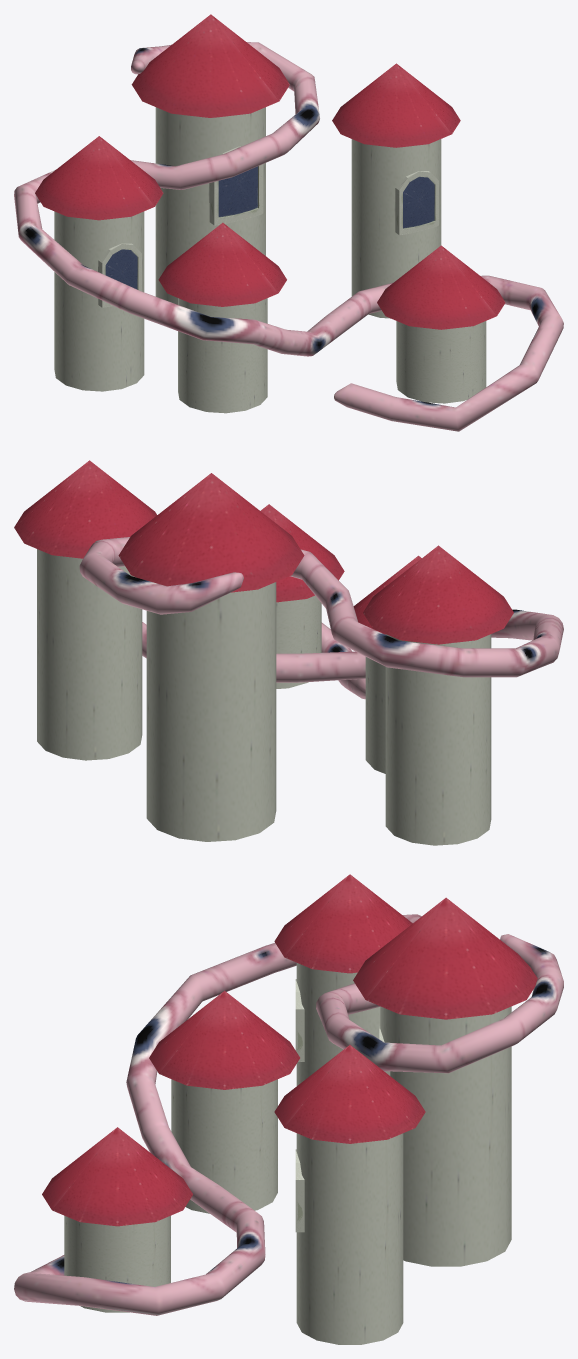
File: Worm_Castle.fbx
3 renders of one model, top to bottom at view 1: azimuth 30°, elevation 25°; view 2: azimuth 150°, elevation 25°; view 3: azimuth 270°, elevation 25°, orthographic. The views are drawn at different scales.
Parts seen in each view (by area): view 1: Worm_Castle_GEO; view 2: Worm_Castle_GEO; view 3: Worm_Castle_GEO.
Part boxes in pixels (x1=…): Worm_Castle_GEO: x1=14, y1=14, x2=563, y2=431; Worm_Castle_GEO: x1=14, y1=460, x2=563, y2=845; Worm_Castle_GEO: x1=14, y1=874, x2=563, y2=1344.
Bounding box in the file's own units: 11.27 × 7.44 × 10.3.
